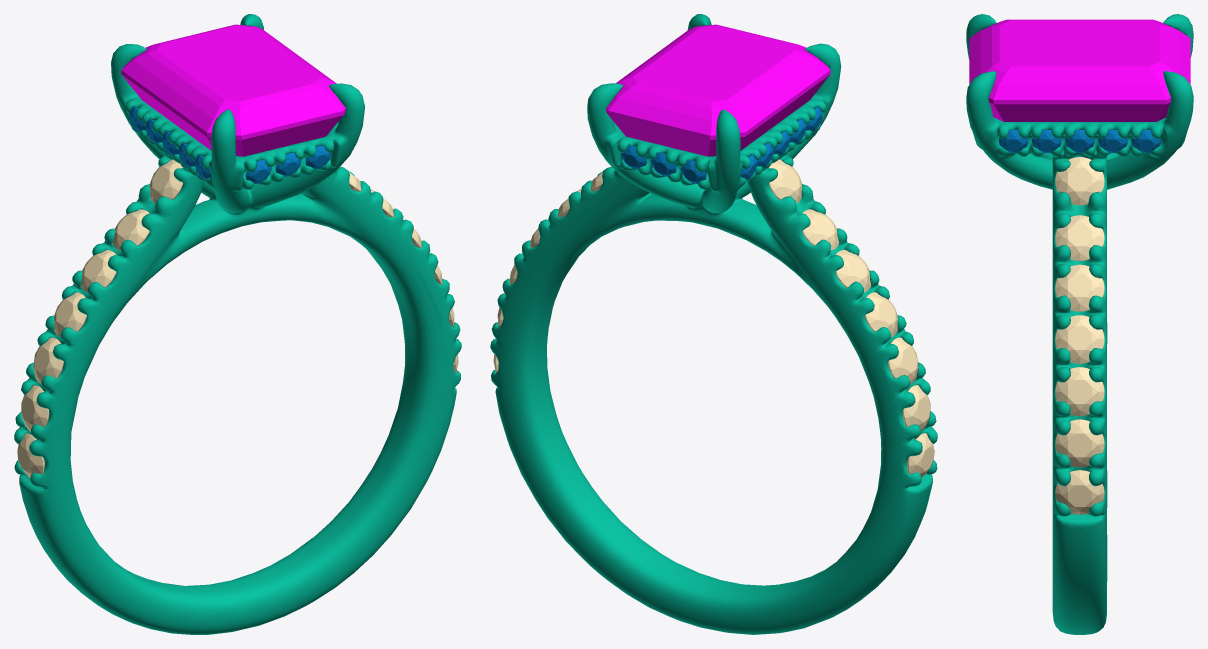
The model's file is BE1D6184_EM_200ct_RENDER.glb.
The picture shows the model from 3 angles, left to right: view 1: azimuth 30°, elevation 25°; view 2: azimuth 150°, elevation 25°; view 3: azimuth 270°, elevation 25°; orthographic projection.
Visible parts, largest first — view 1: Metal 01, CS_Diamond_Emerald, Diamond_Round_Gem_SH.013, Diamond_Round_Gem_SH.011, Diamond_Round_Gem_SH.012, Diamond_Round_Gem_SH.010, Diamond_Round_Gem_SH.009, Diamond_Round_Gem_SH.008, Diamond_Round_Gem_SH.007; view 2: Metal 01, CS_Diamond_Emerald, Diamond_Round_Gem_SH.013, Diamond_Round_Gem_SH.012, Diamond_Round_Gem_SH.010, Diamond_Round_Gem_SH.011, Diamond_Round_Gem_SH.009, Diamond_Round_Gem_SH.008, Diamond_Round_Gem_SH.007; view 3: Metal 01, CS_Diamond_Emerald, Diamond_Round_Gem_SH.006, Diamond_Round_Gem_SH.002, Diamond_Round_Gem_SH.003, Diamond_Round_Gem_SH.001, Diamond_Round_Gem_SH.004, Diamond_Round_Gem_SH.005, Diamond_Round_Gem_SH, Diamond_Round_Gem_HD.005, Diamond_Round_Gem_HD.006, Diamond_Round_Gem_HD.004 (+2 smaller).
Boxes of the visible parts, bbox=[...] form: Metal 01: bbox=[14, 14, 461, 634]; CS_Diamond_Emerald: bbox=[121, 24, 345, 156]; Diamond_Round_Gem_SH.013: bbox=[149, 159, 182, 203]; Diamond_Round_Gem_SH.011: bbox=[81, 250, 116, 292]; Diamond_Round_Gem_SH.012: bbox=[112, 209, 149, 250]; Diamond_Round_Gem_SH.010: bbox=[54, 292, 86, 337]; Diamond_Round_Gem_SH.009: bbox=[33, 337, 63, 384]; Diamond_Round_Gem_SH.008: bbox=[21, 385, 49, 431]; Diamond_Round_Gem_SH.007: bbox=[17, 433, 44, 477]; Metal 01: bbox=[490, 14, 937, 634]; CS_Diamond_Emerald: bbox=[606, 24, 830, 156]; Diamond_Round_Gem_SH.013: bbox=[769, 159, 802, 203]; Diamond_Round_Gem_SH.012: bbox=[802, 209, 839, 250]; Diamond_Round_Gem_SH.010: bbox=[865, 292, 897, 337]; Diamond_Round_Gem_SH.011: bbox=[835, 249, 870, 292]; Diamond_Round_Gem_SH.009: bbox=[888, 337, 918, 384]; Diamond_Round_Gem_SH.008: bbox=[902, 385, 930, 431]; Diamond_Round_Gem_SH.007: bbox=[906, 433, 934, 477]; Metal 01: bbox=[966, 14, 1193, 634]; CS_Diamond_Emerald: bbox=[969, 19, 1190, 121]; Diamond_Round_Gem_SH.006: bbox=[1055, 157, 1104, 205]; Diamond_Round_Gem_SH.002: bbox=[1055, 367, 1104, 416]; Diamond_Round_Gem_SH.003: bbox=[1055, 315, 1104, 363]; Diamond_Round_Gem_SH.001: bbox=[1055, 419, 1104, 467]; Diamond_Round_Gem_SH.004: bbox=[1055, 264, 1104, 311]; Diamond_Round_Gem_SH.005: bbox=[1055, 215, 1104, 261]; Diamond_Round_Gem_SH: bbox=[1055, 470, 1104, 514]; Diamond_Round_Gem_HD.005: bbox=[1065, 129, 1094, 152]; Diamond_Round_Gem_HD.006: bbox=[1098, 129, 1127, 152]; Diamond_Round_Gem_HD.004: bbox=[1032, 129, 1061, 152].
Bounding box in the file's own units: 20.47 × 25.47 × 9.26.
